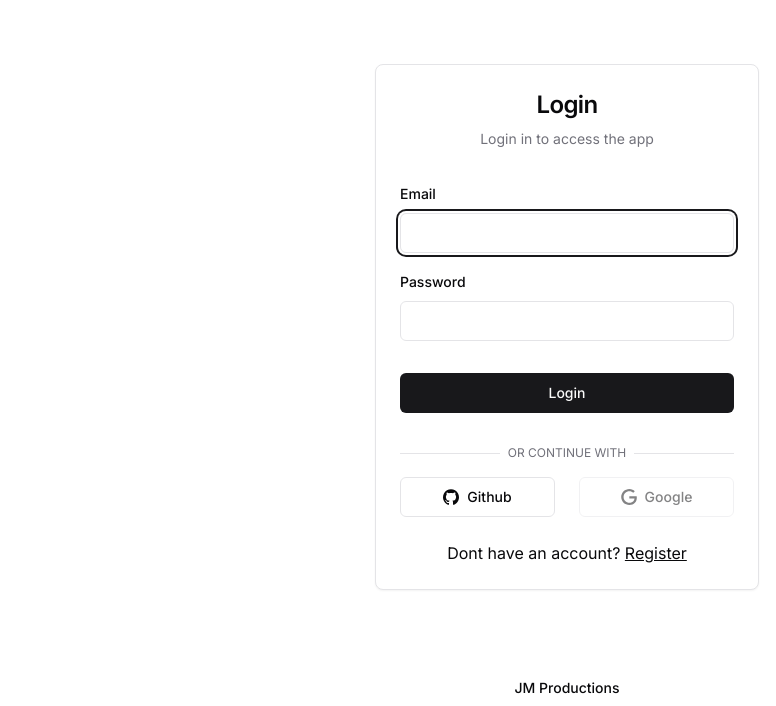
Test: Login form tests › Test with empty password
In the field with test id "login-email": (567, 233) [400,213,734,253], type "test@test.com"
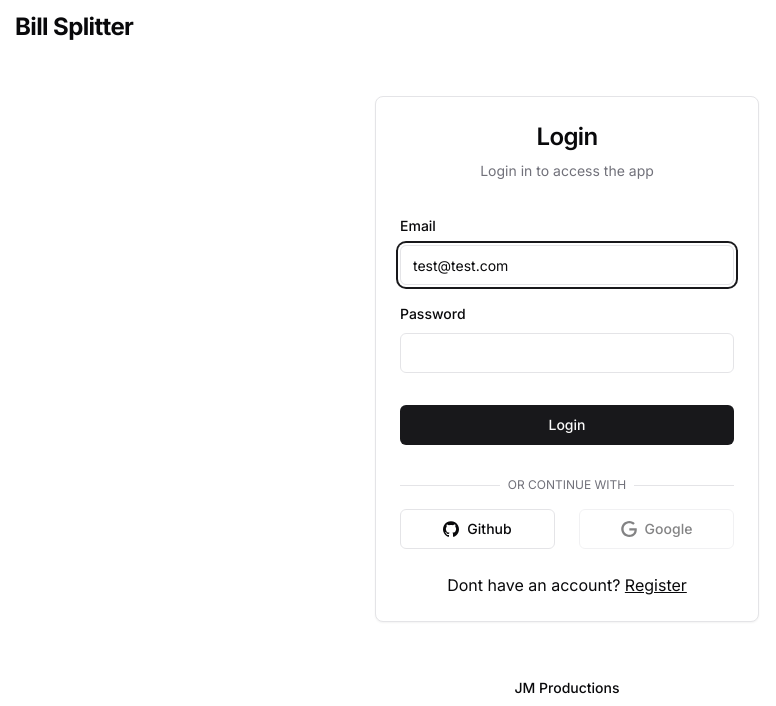
Click the button with test id "login-submit": (567, 425) [400,405,734,445]
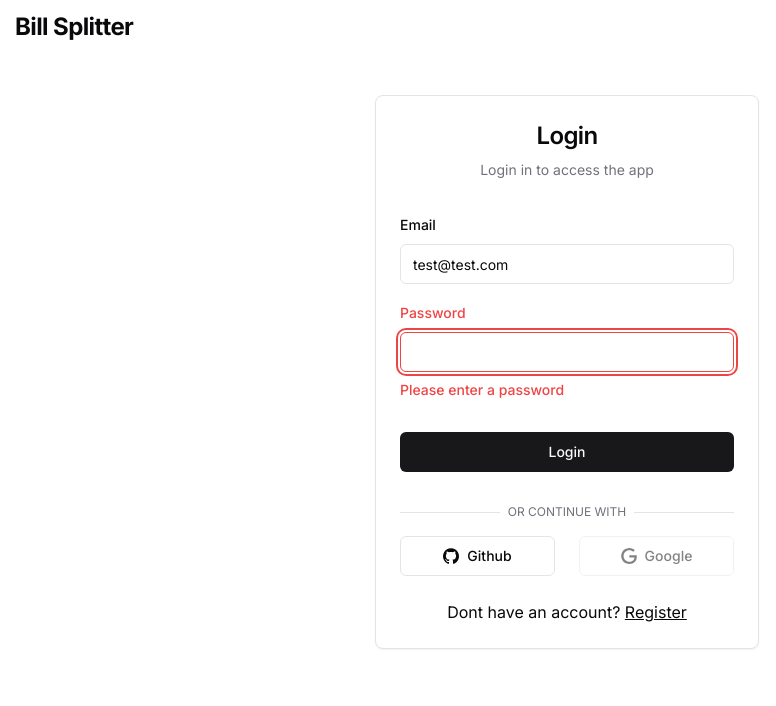
Now the form with test id "login-form" shows "Please enter a password", box [400,212,734,488]
